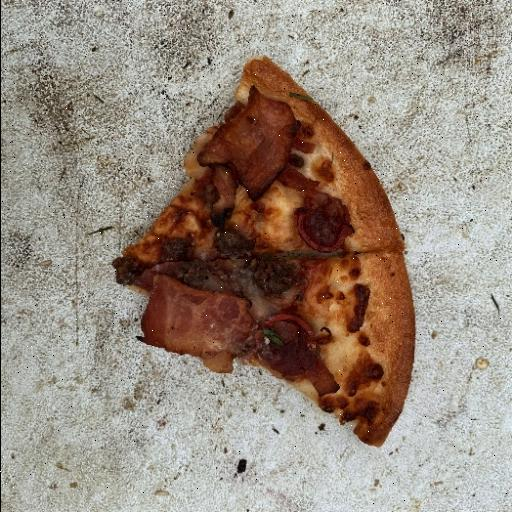Waste: (110, 54, 416, 448)
